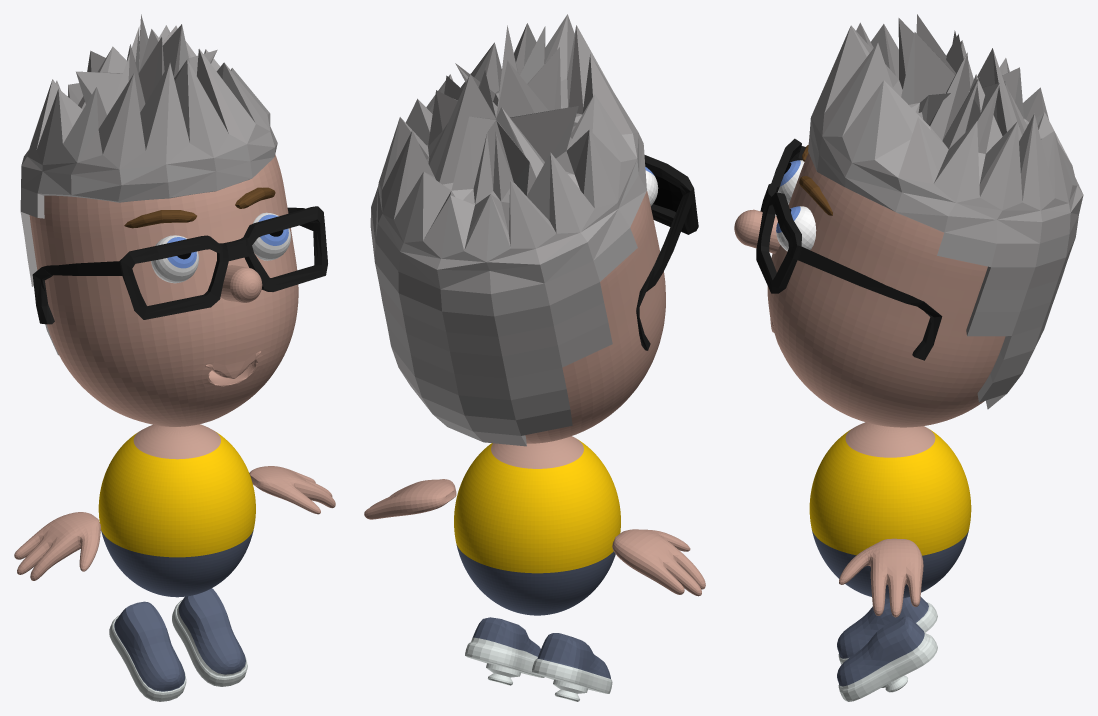
File: char2.gltf
3 views of the same model, side by side, from view 1: azimuth 30°, elevation 25°; view 2: azimuth 150°, elevation 25°; view 3: azimuth 270°, elevation 25° (orthographic). The views are drawn at different scales.
Parts seen in each view (by area): view 1: head, hair solid, body, GLASSES, shoe R, shoe L, hand R, hand L, nose, Eyeball - R, Eyeball - L, Eyebrow R; view 2: hair solid, body, head, hand R, GLASSES, shoe R, shoe L, hand L, lenses; view 3: hair solid, head, body, GLASSES, shoe L, hand L, shoe R, nose, Eyeball - L, Eyeball - R.
Boxes of the visible parts, x1=… form: head: x1=29, y1=155, x2=298, y2=426; hair solid: x1=20, y1=14, x2=277, y2=355; body: x1=98, y1=424, x2=255, y2=597; GLASSES: x1=32, y1=206, x2=327, y2=324; shoe R: x1=109, y1=601, x2=186, y2=701; shoe L: x1=172, y1=588, x2=247, y2=686; hand R: x1=14, y1=512, x2=100, y2=580; hand L: x1=249, y1=466, x2=335, y2=514; nose: x1=220, y1=265, x2=262, y2=302; Eyeball - R: x1=151, y1=235, x2=198, y2=283; Eyeball - L: x1=252, y1=212, x2=290, y2=260; Eyebrow R: x1=124, y1=210, x2=196, y2=228; hair solid: x1=370, y1=14, x2=646, y2=446; body: x1=454, y1=436, x2=620, y2=615; head: x1=525, y1=191, x2=665, y2=443; hand R: x1=612, y1=529, x2=705, y2=596; GLASSES: x1=636, y1=155, x2=698, y2=350; shoe R: x1=532, y1=633, x2=612, y2=693; shoe L: x1=465, y1=617, x2=544, y2=677; hand L: x1=364, y1=479, x2=456, y2=519; lenses: x1=653, y1=175, x2=682, y2=212; hair solid: x1=808, y1=14, x2=1083, y2=409; head: x1=767, y1=153, x2=1005, y2=427; body: x1=809, y1=422, x2=971, y2=599; GLASSES: x1=756, y1=138, x2=942, y2=360; shoe L: x1=837, y1=616, x2=937, y2=701; hand L: x1=839, y1=538, x2=923, y2=617; shoe R: x1=837, y1=596, x2=937, y2=664; nose: x1=734, y1=209, x2=780, y2=253; Eyeball - L: x1=776, y1=206, x2=816, y2=251; Eyeball - R: x1=777, y1=160, x2=804, y2=204.
Size of the model in its own units: 0.4785 by 0.9307 by 0.4475.
